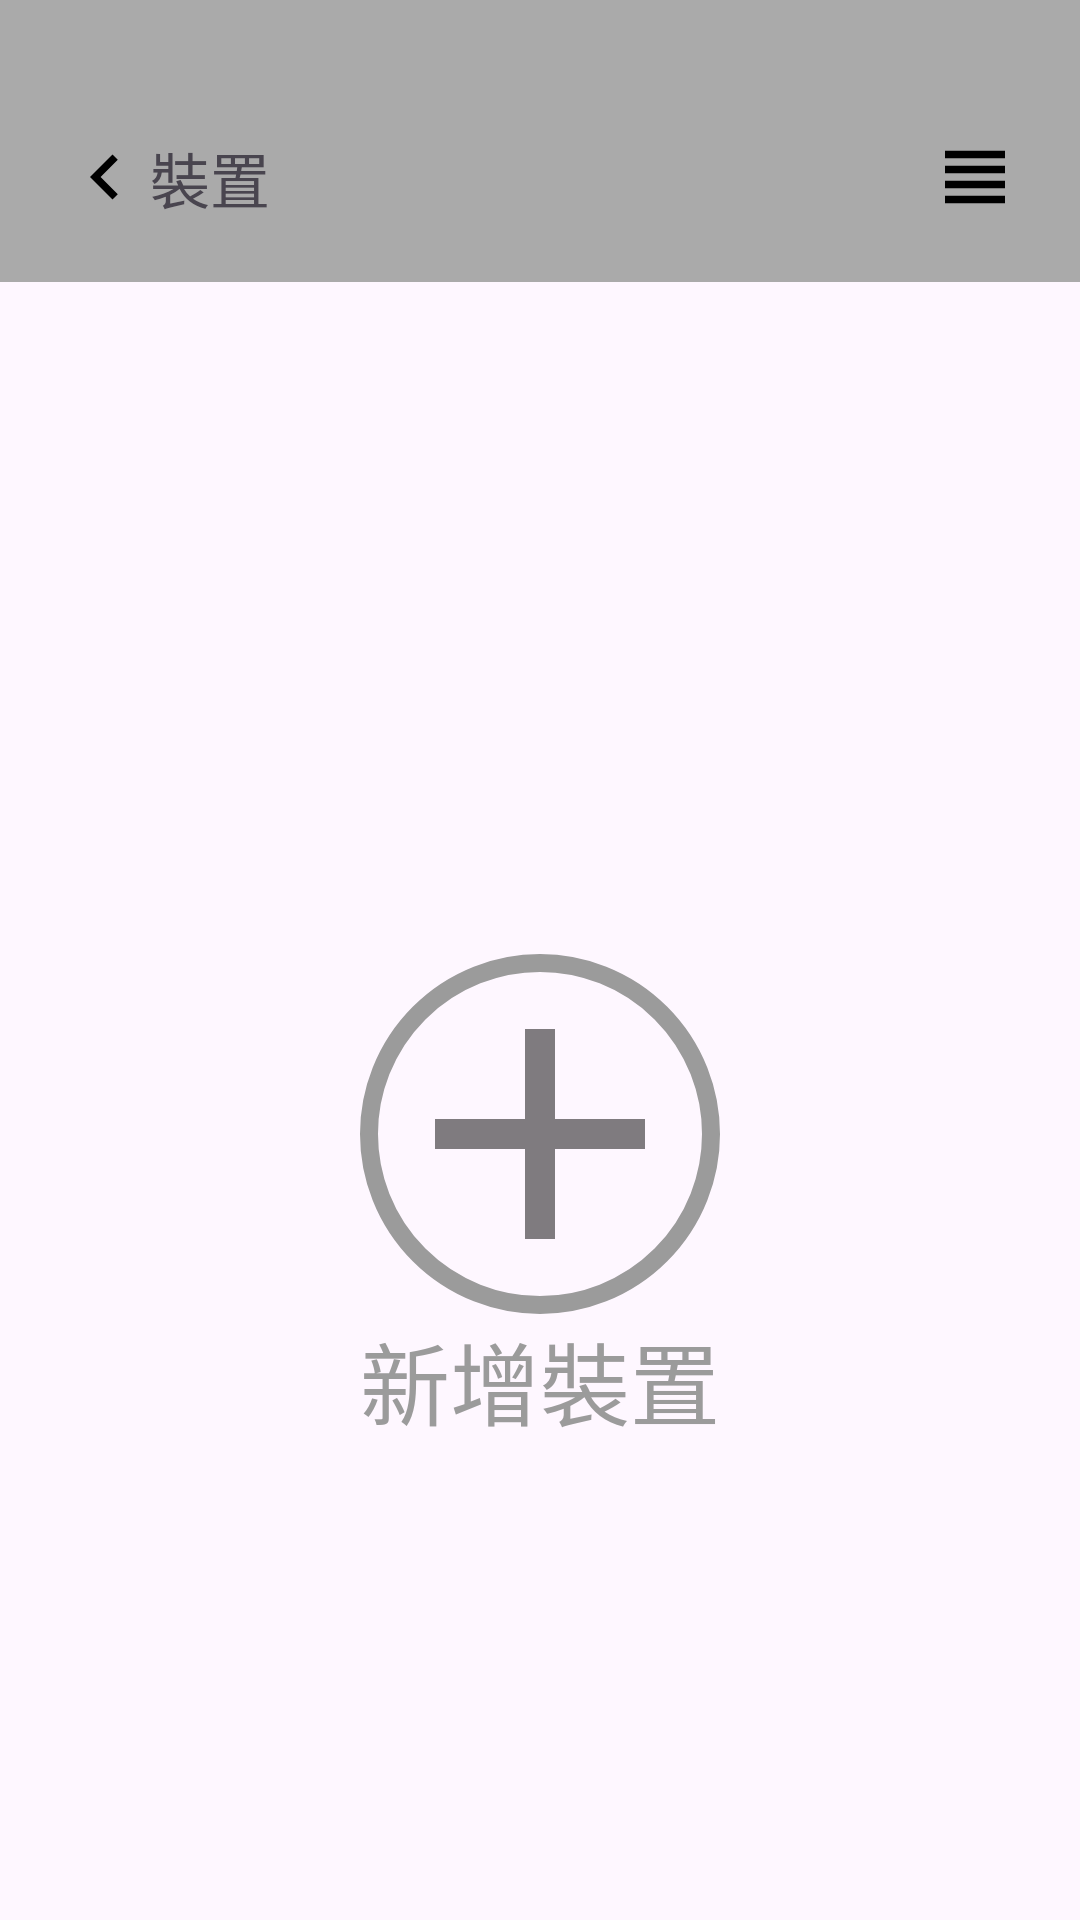

Screen size 1080px x 1920px. Icon name, then its center in pixels as (x,y):
上一頁: (104,177)
其他: (975,177)
